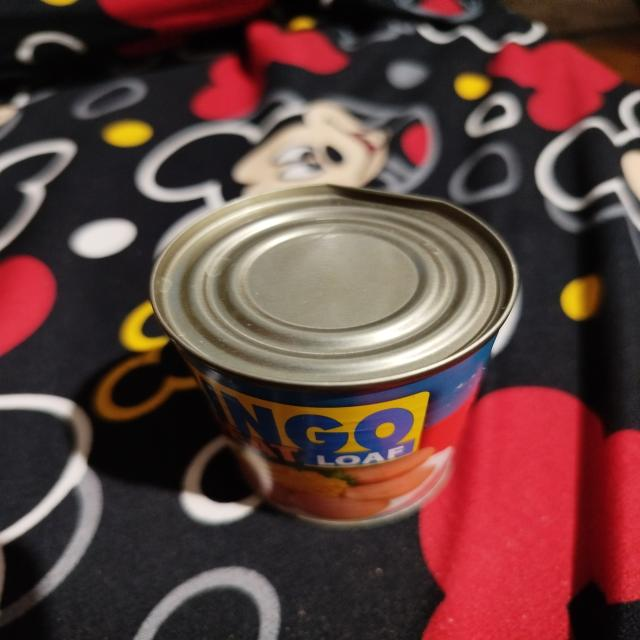metal: (134, 177, 537, 532)
